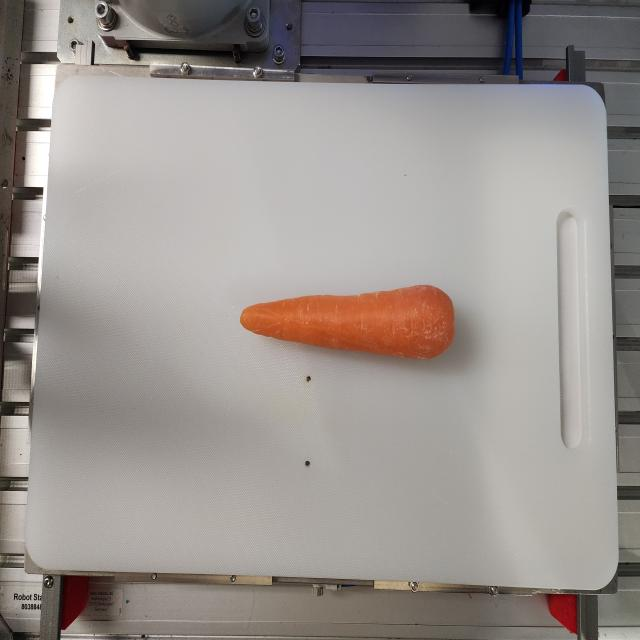carrot: (240, 283, 456, 360)
